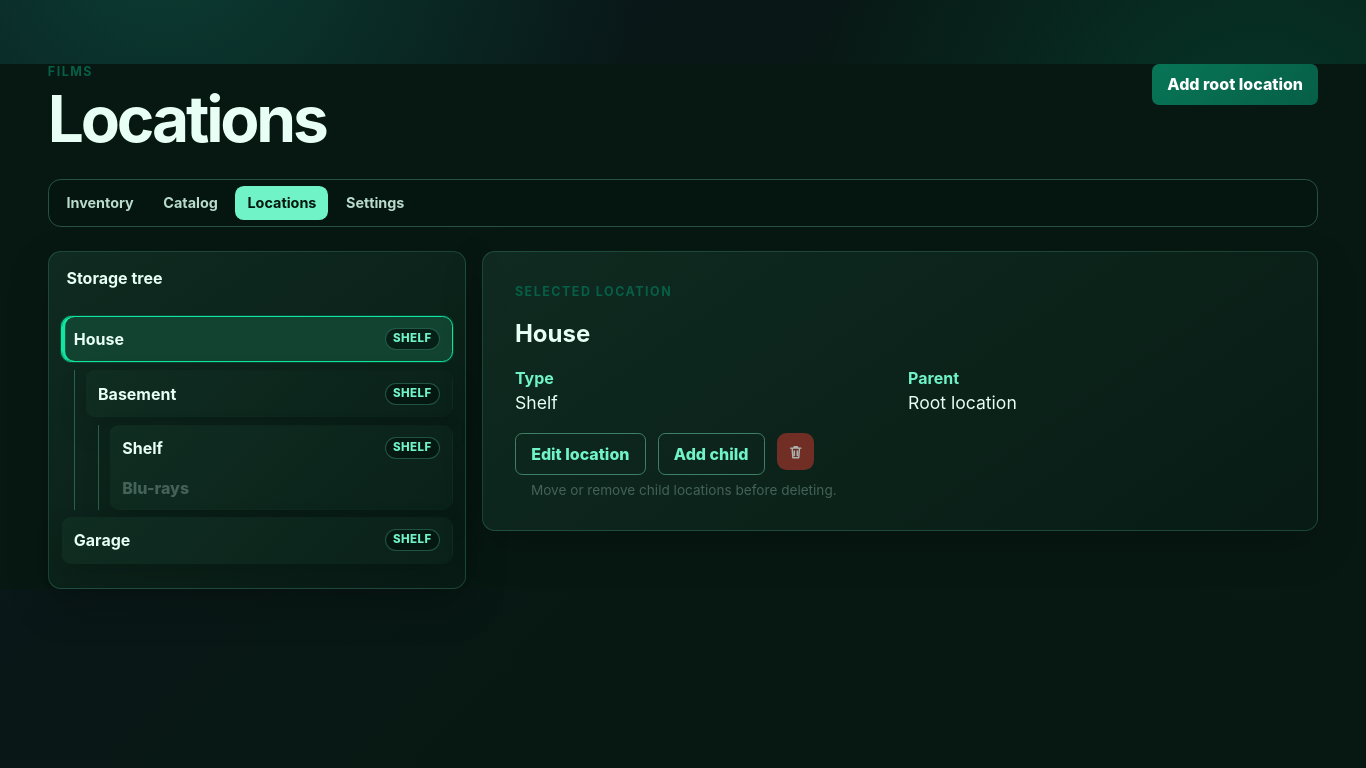
LocationsView › keeps the type badge separate and updates the selected location detail
The image size is (1366, 768).
Click the button with class "location-node__content" showing "Shelf Shelf Blu-rays". click: (143,448)
box: top-left (109, 425), bottom-right (453, 510)
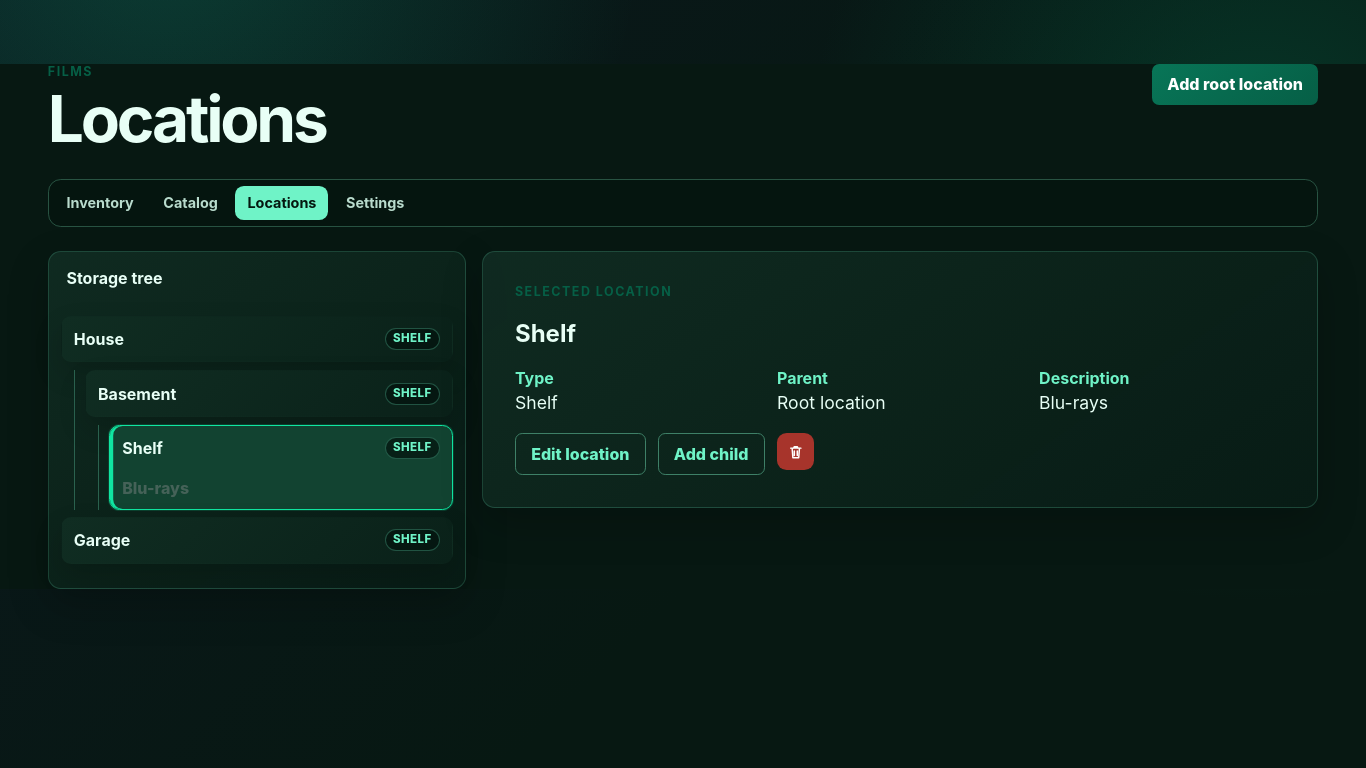
Expected: the 4th text with class "location-node__name" reads "Shelf", top-left (122, 438), bottom-right (163, 458)
Now the element that starts with "Selected location" shows "Blu-rays", box top-left (1039, 392), bottom-right (1108, 413)
